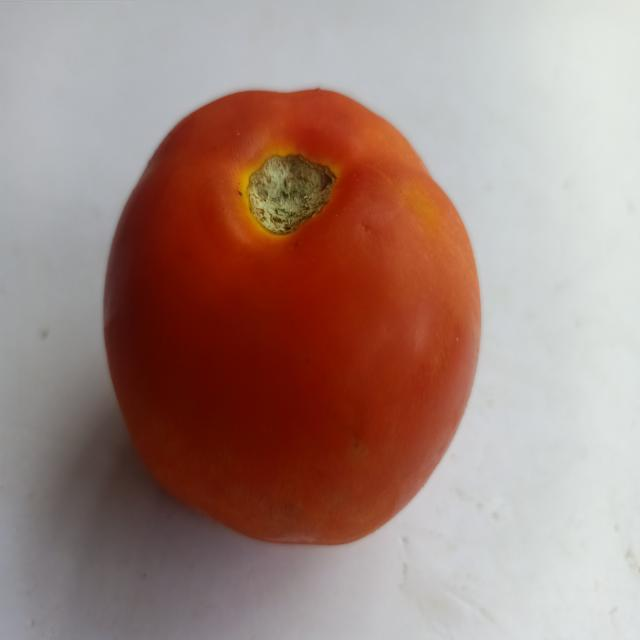Tomato: (97, 77, 500, 571)
